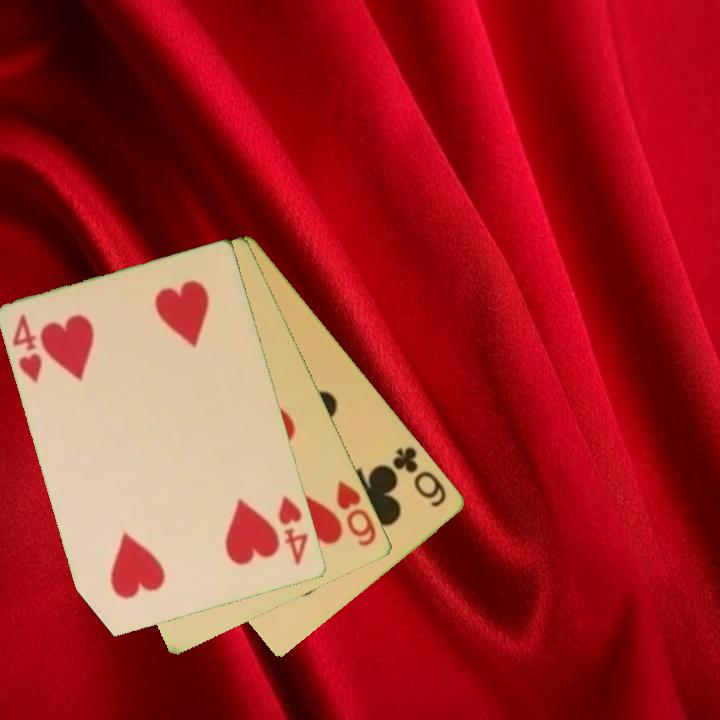4h: (275, 492, 312, 568), (9, 311, 46, 385)
6c: (389, 443, 451, 511)
6h: (333, 477, 380, 550)
